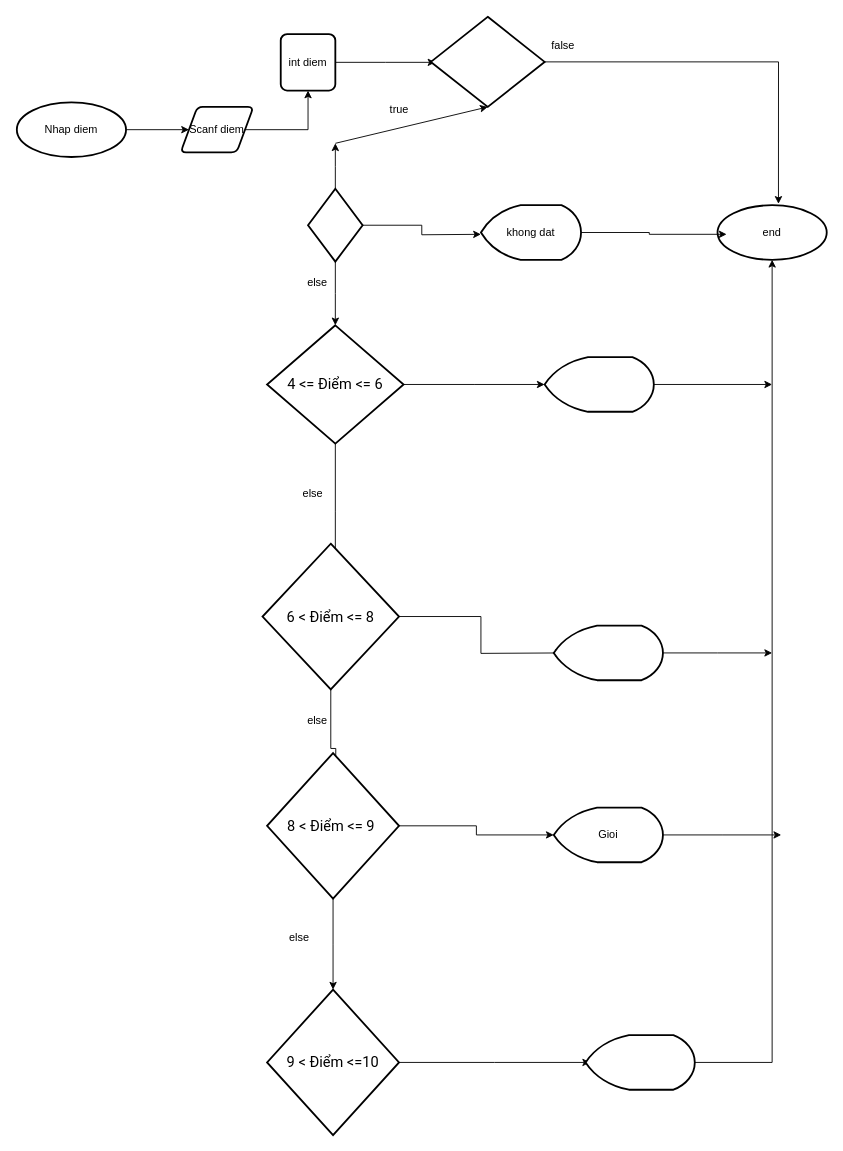
Image size: 843x1151. Some labels were removed from this diagram. The shapes that lost their labels are listed below. From the top down, each one's box as (x1, y1, x2, y2) in pixels, then its label:
(430, 15, 545, 107): 0<=Diem<=10
(307, 187, 363, 262): diem < 4
(543, 356, 654, 412): Trung binh
(552, 624, 663, 681): Kha
(584, 1034, 695, 1090): Xuat xac
